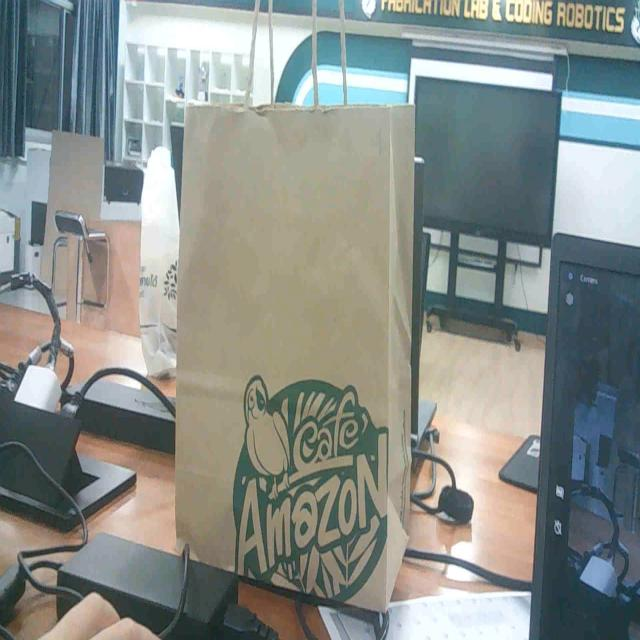bag: (167, 70, 424, 614)
